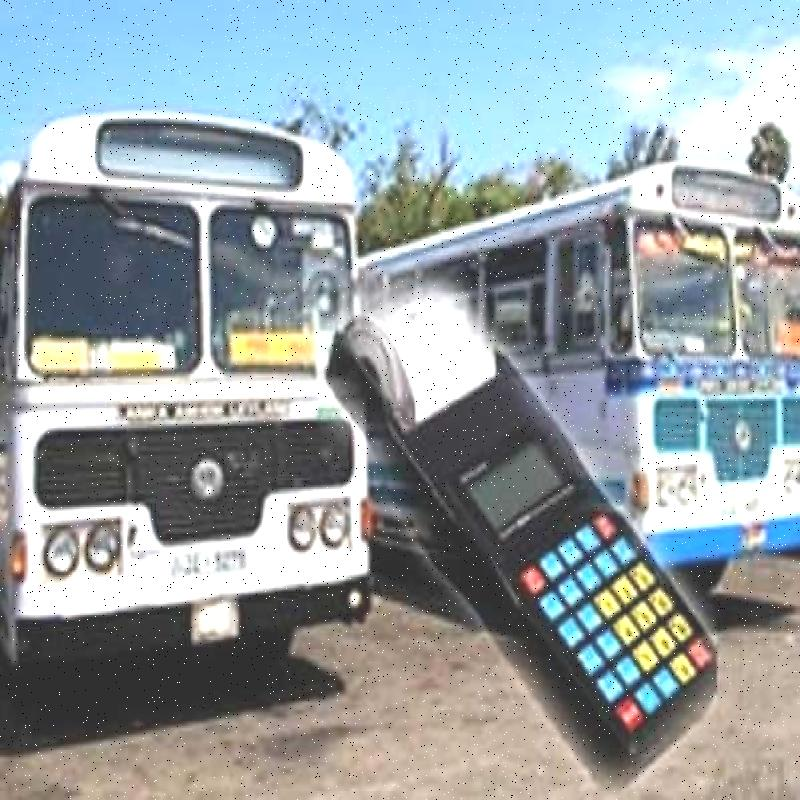bus: (7, 69, 393, 732)
